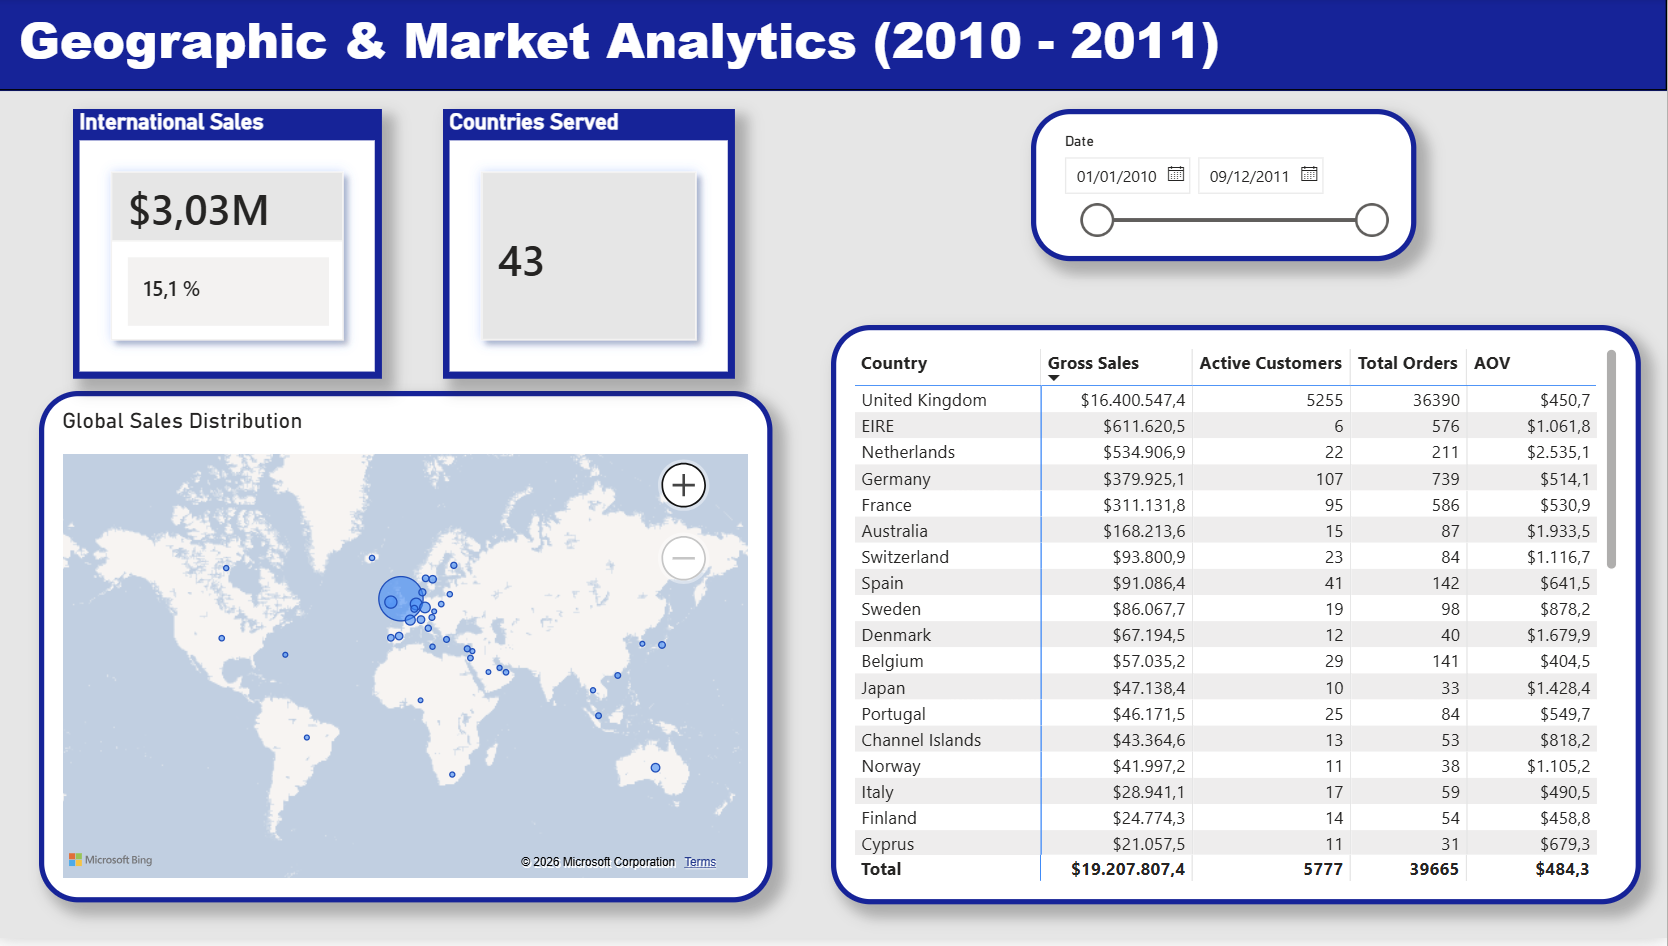

The dashboard page shown, as its layout file describes it:
{"tool":"powerbi","page":{"name":"Geographic & Market Analytics","canvas":[1280,720],"ordinal":3},"visuals":[{"type":"map","title":"Global Sales Distribution","fields":{"Category":["Fact_Sales.Country"],"Size":["_Measures.Gross Sales"]},"box":[33.3,301.7,561.4,391.4],"z":0},{"type":"shape","box":[0,0,1280,72],"z":1000},{"type":"textbox","box":[0,0,1280,71.7],"z":2000},{"type":"cardVisual","title":"International Sales","fields":{"Data":["_Measures.International Sales"]},"box":[60,85,236.7,206.7],"z":2000},{"type":"pivotTable","fields":{"Rows":["Fact_Sales.Country"],"Values":["_Measures.Gross Sales","_Measures.Active Customers","_Measures.Total Orders","_Measures.Average Order Value"]},"box":[640,251.7,620,443.3],"z":2001},{"type":"slicer","fields":{"Values":["Dim_Date.Date"]},"box":[793.3,85,295,116.7],"z":2002},{"type":"cardVisual","title":"Countries Served","fields":{"Data":["_Measures.Num Countries"]},"box":[343.3,85,223.3,206.7],"z":2003}]}

Visuals, with their boxes in screenshot pixels (x1, y1, x2, y2), scaled from the page's 1280x720 canvas onto the 1668x946 screenshot:
"Global Sales Distribution" map: (43,396,775,911)
shape: (0,0,1667,95)
textbox: (0,0,1667,94)
"International Sales" cardVisual: (78,112,387,383)
pivotTable - Fact_Sales.Country x _Measures.Gross Sales: (834,331,1642,913)
slicer - Dim_Date.Date: (1034,112,1418,265)
"Countries Served" cardVisual: (447,112,738,383)
